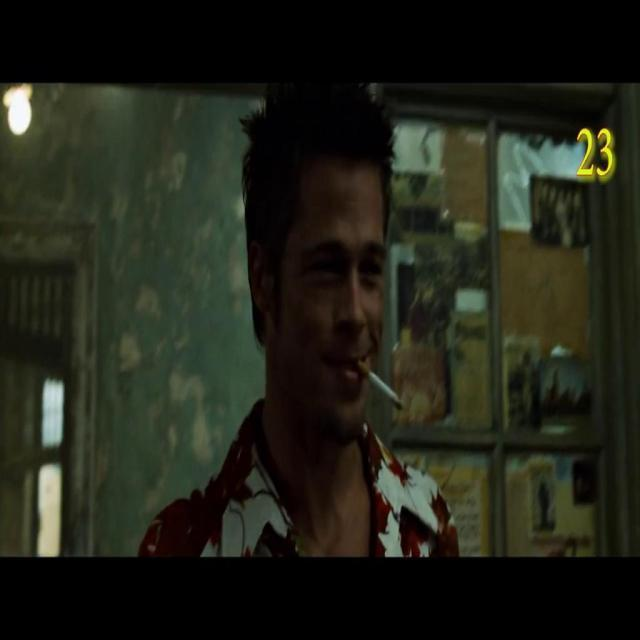smoking: (354, 358, 408, 411)
